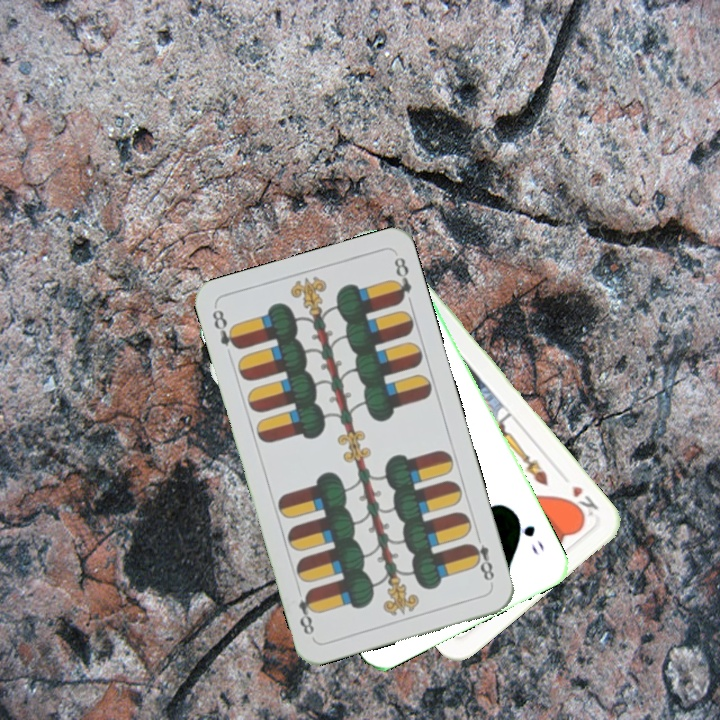E8: (465, 530, 497, 584), (208, 305, 242, 352)
GO: (511, 510, 547, 558)
HK: (563, 481, 601, 524)
